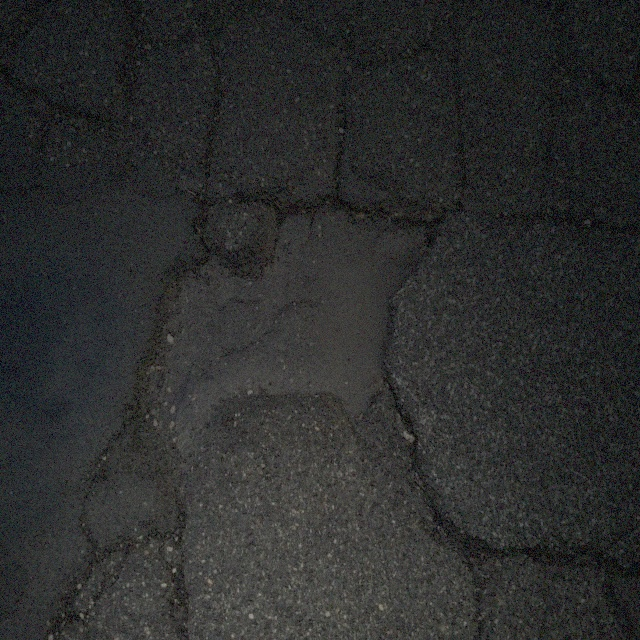pothole: (149, 188, 455, 458)
